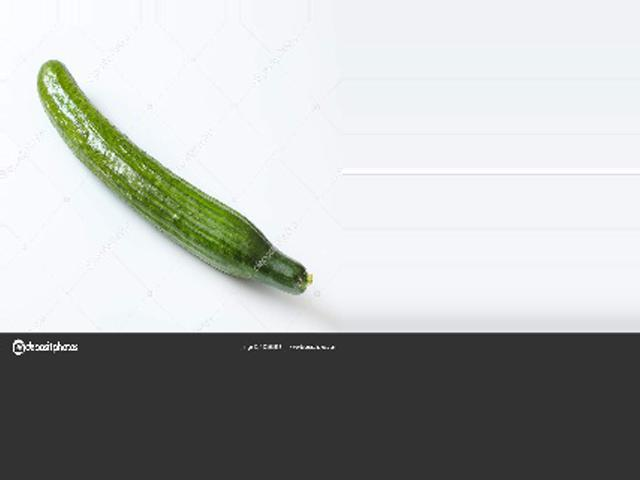cucumber: (38, 60, 313, 292)
